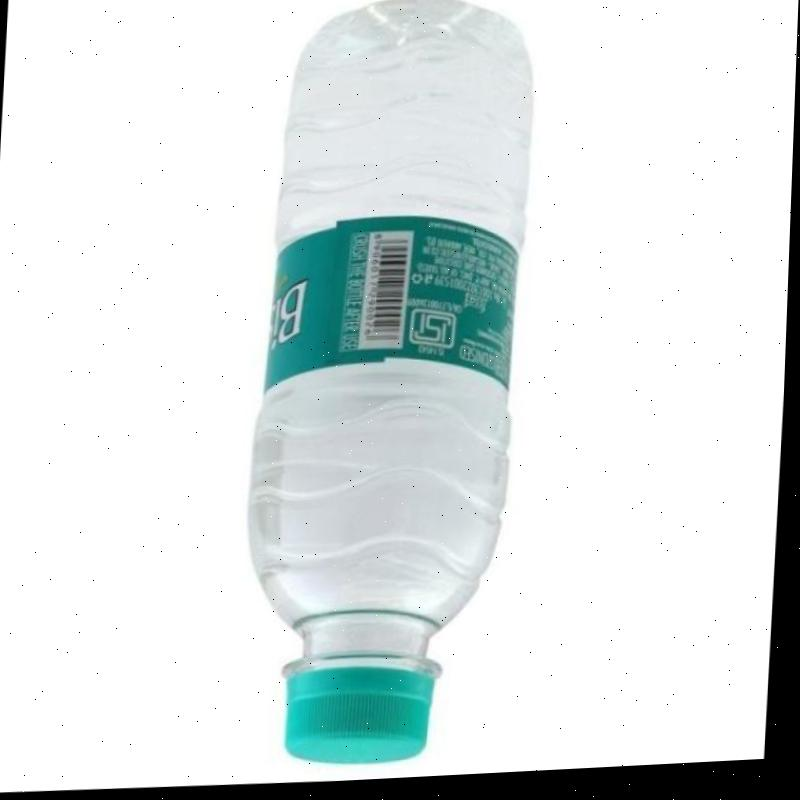botella: (237, 0, 546, 776)
